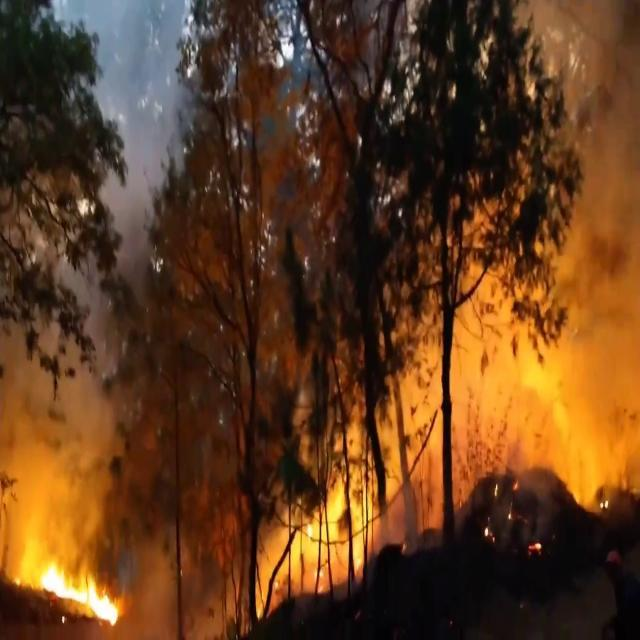Fire: (258, 466, 378, 606), (15, 536, 130, 630)
Smoke: (440, 1, 640, 539), (0, 246, 154, 521), (84, 0, 194, 238)
